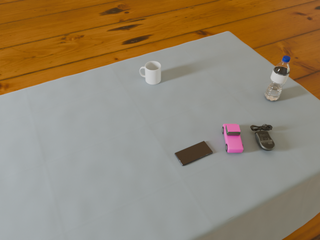bottle: (265, 56, 290, 101)
cup: (140, 61, 161, 84)
mouse: (251, 124, 275, 151)
phone: (175, 141, 213, 166)
toy_car: (222, 124, 243, 153)
